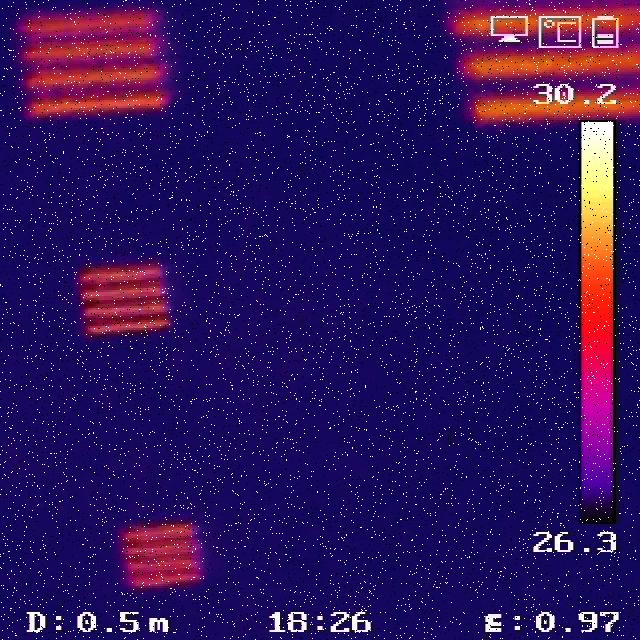Distinguishable 4-bar target: (429, 5, 640, 141), (14, 6, 162, 118), (115, 520, 209, 591), (75, 266, 172, 334)
